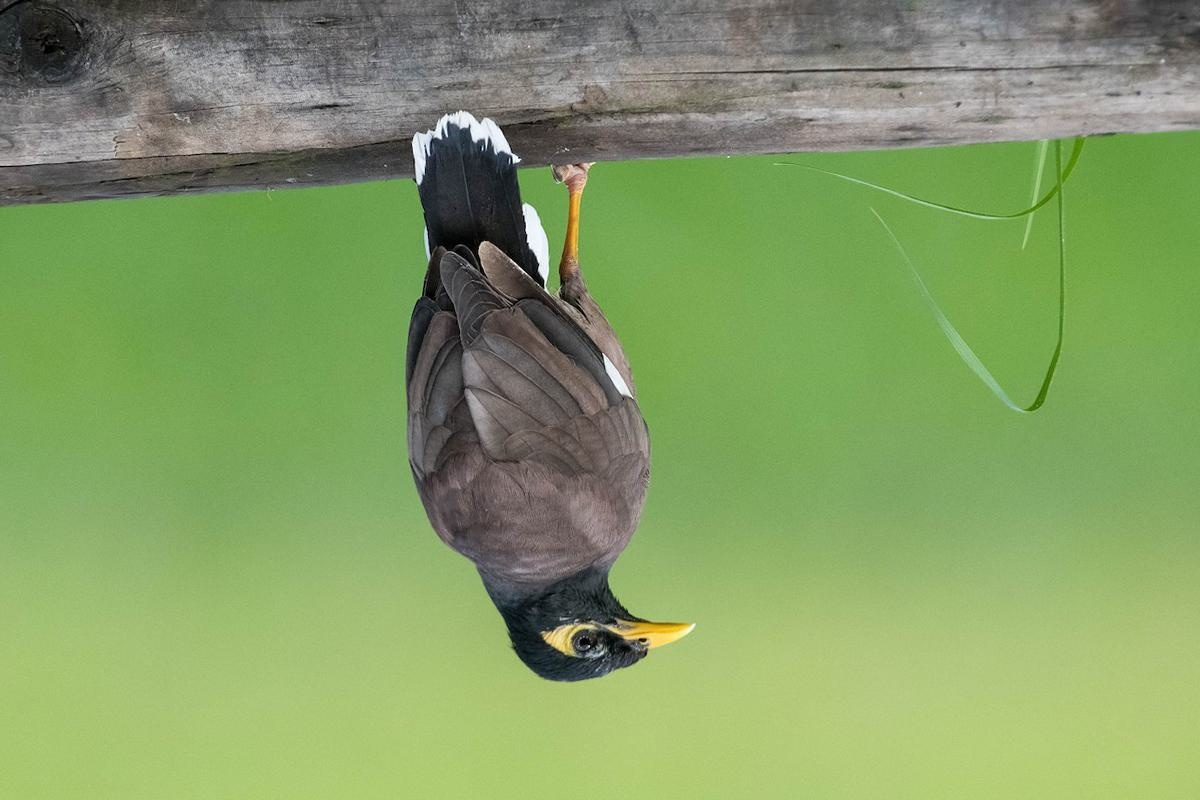myna: (329, 68, 696, 691)
